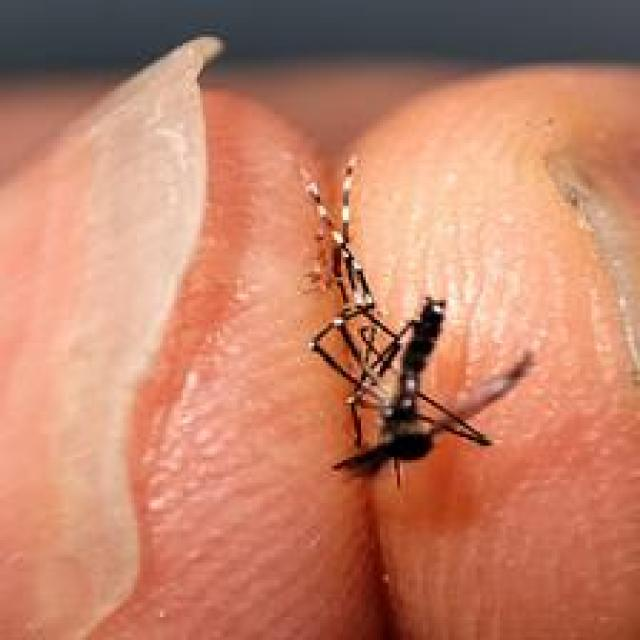Aedes albopictus: (296, 156, 533, 490)
